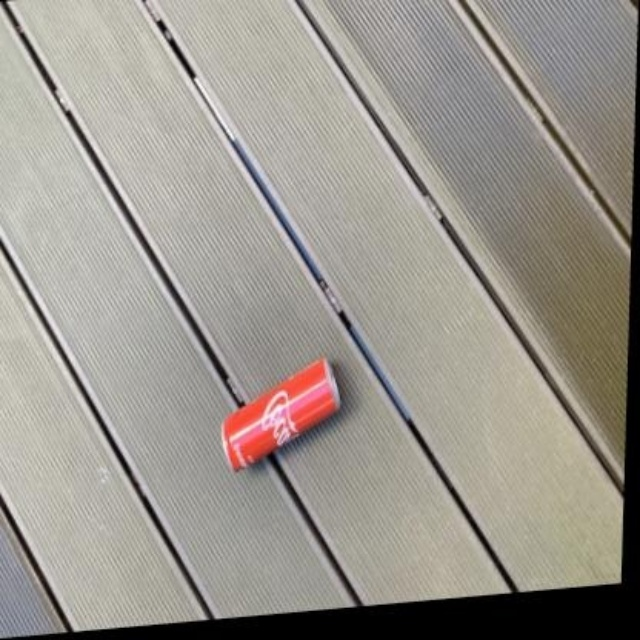trash: (222, 357, 338, 468)
